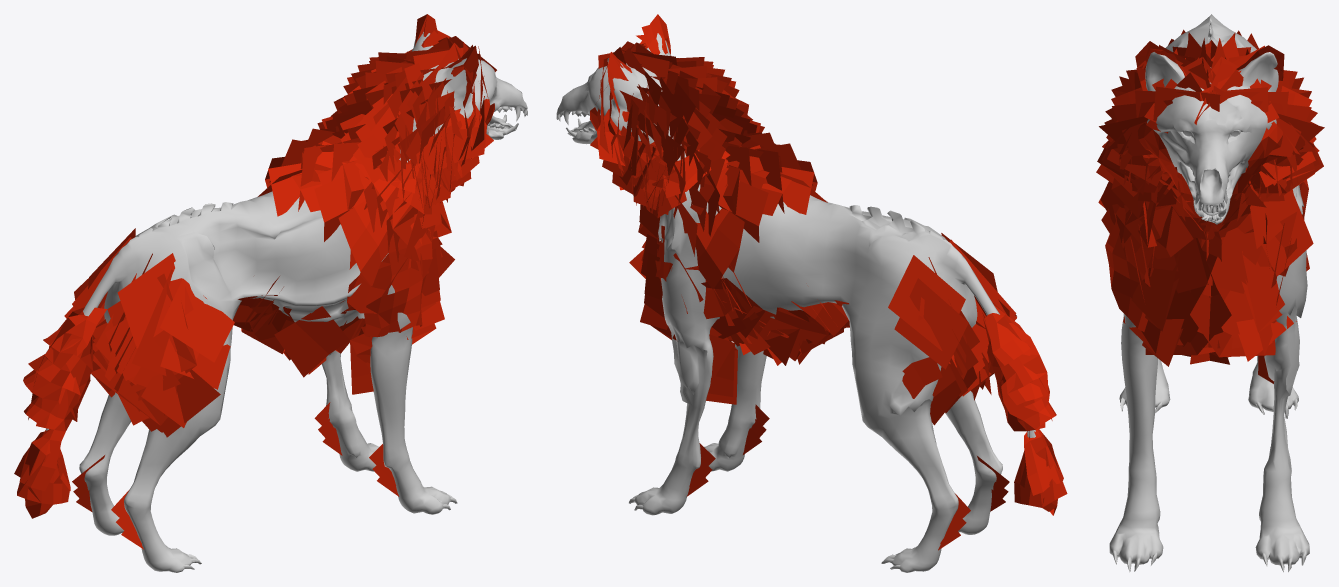
Rendered from hellhound.obj.
3 views of the same model, side by side, from view 1: azimuth 30°, elevation 25°; view 2: azimuth 150°, elevation 25°; view 3: azimuth 270°, elevation 25° (orthographic). The views are drawn at different scales.
Parts seen in each view (by area): view 1: c_zom_der_hellhound_fb_LOD0.007, c_zom_der_hellhound_fb_LOD0.004; view 2: c_zom_der_hellhound_fb_LOD0.007, c_zom_der_hellhound_fb_LOD0.004; view 3: c_zom_der_hellhound_fb_LOD0.007, c_zom_der_hellhound_fb_LOD0.004.
Boxes of the visible parts, x1=… form: c_zom_der_hellhound_fb_LOD0.007: x1=14, y1=14, x2=496, y2=549; c_zom_der_hellhound_fb_LOD0.004: x1=45, y1=32, x2=527, y2=572; c_zom_der_hellhound_fb_LOD0.007: x1=590, y1=14, x2=1067, y2=550; c_zom_der_hellhound_fb_LOD0.004: x1=556, y1=33, x2=1035, y2=572; c_zom_der_hellhound_fb_LOD0.007: x1=1096, y1=29, x2=1324, y2=383; c_zom_der_hellhound_fb_LOD0.004: x1=1109, y1=14, x2=1309, y2=572.
Size of the model in its own units: 7.74 by 6.49 by 2.45.
